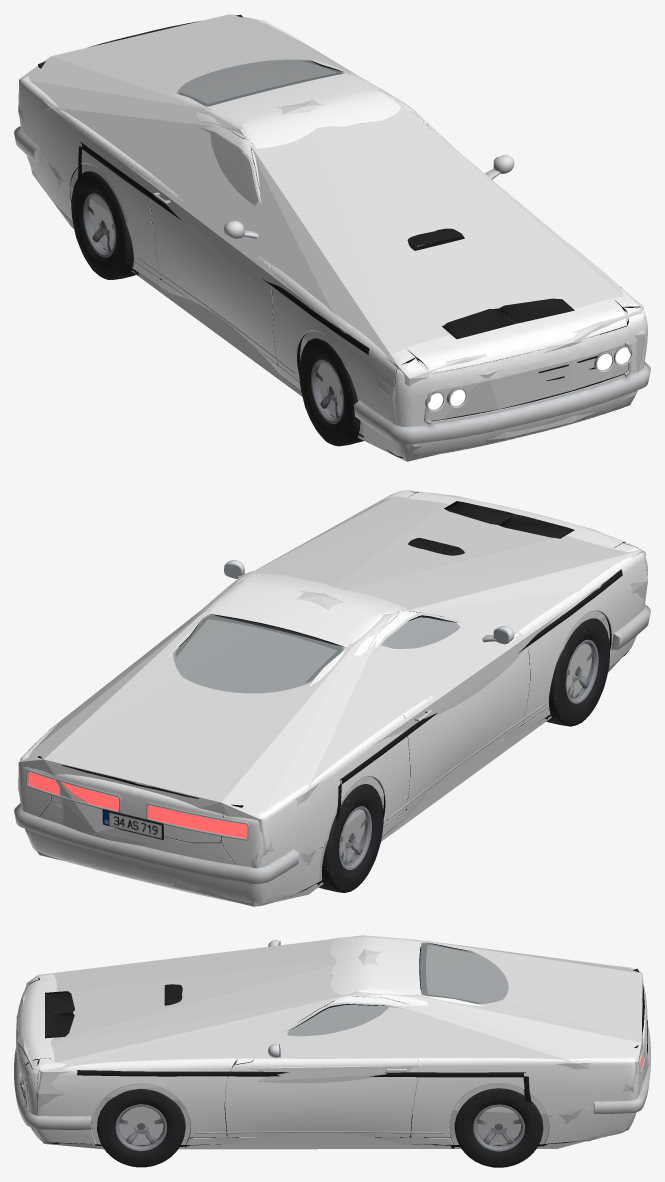
File: arden_shaker_lod0.glb
3 views of the same model, one above another, from view 1: azimuth 30°, elevation 25°; view 2: azimuth 150°, elevation 25°; view 3: azimuth 270°, elevation 25° (orthographic). The views are drawn at different scales.
Parts seen in each view (by area): view 1: col_body, body, exhaust, trim, glass, wheel_RR, wheel_FR, lights_front; view 2: col_body, body, glass, exhaust, trim, wheel_RR, wheel_FR, lights_rear, plate_rear; view 3: col_body, body, glass, trim, wheel_RL, wheel_FL, exhaust.
Boxes of the visible parts, x1,y1,x2,y2 form: col_body: [18, 14, 645, 461]; body: [19, 20, 647, 457]; exhaust: [14, 88, 650, 444]; trim: [38, 14, 640, 421]; glass: [177, 60, 343, 205]; wheel_RR: [71, 171, 135, 279]; wheel_FR: [299, 338, 363, 446]; lights_front: [428, 347, 630, 409]; col_body: [18, 490, 647, 906]; body: [19, 490, 647, 906]; glass: [173, 615, 459, 692]; exhaust: [14, 560, 650, 883]; trim: [38, 491, 646, 864]; wheel_RR: [319, 784, 383, 892]; wheel_FR: [546, 618, 609, 726]; lights_rear: [28, 771, 247, 837]; plate_rear: [103, 811, 161, 838]; col_body: [16, 935, 648, 1149]; body: [16, 936, 646, 1144]; glass: [287, 943, 508, 1035]; trim: [19, 942, 647, 1144]; wheel_RL: [454, 1088, 543, 1167]; wheel_FL: [97, 1089, 185, 1167]; exhaust: [14, 937, 650, 1133].
Size of the model in its own units: 2.04 by 1.38 by 4.97.
11 materials, 1 textured.
